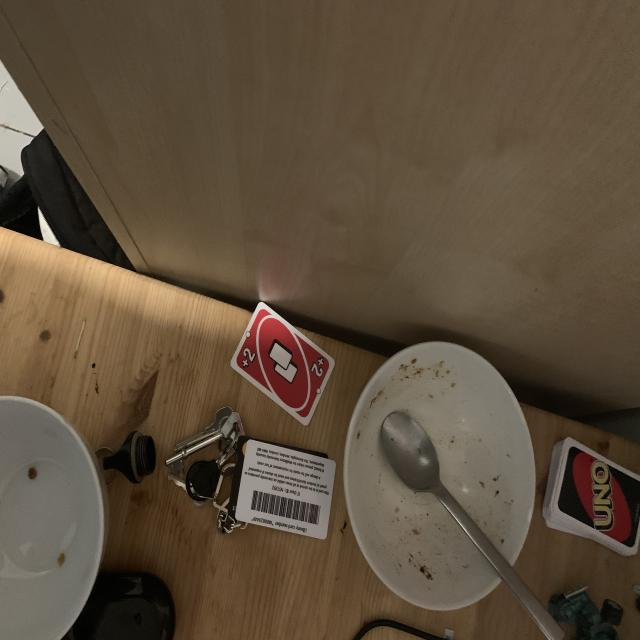lred-20: (238, 346, 259, 370)
